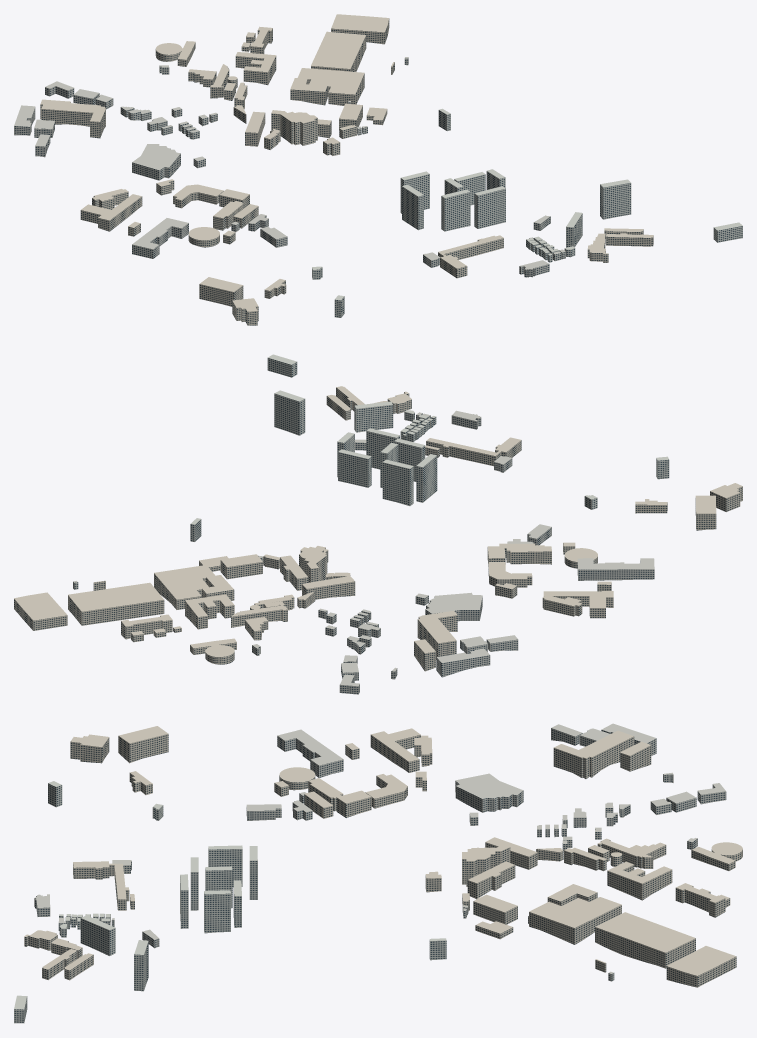
Rendered from city_1_-5.glb.
3 views of the same model, one above another, from view 1: azimuth 30°, elevation 25°; view 2: azimuth 150°, elevation 25°; view 3: azimuth 270°, elevation 25° (orthographic). The views are drawn at different scales.
Bounding box in the file's own units: 902 × 76.78 × 1020.
Materials: 3 (3 with a texture image).
